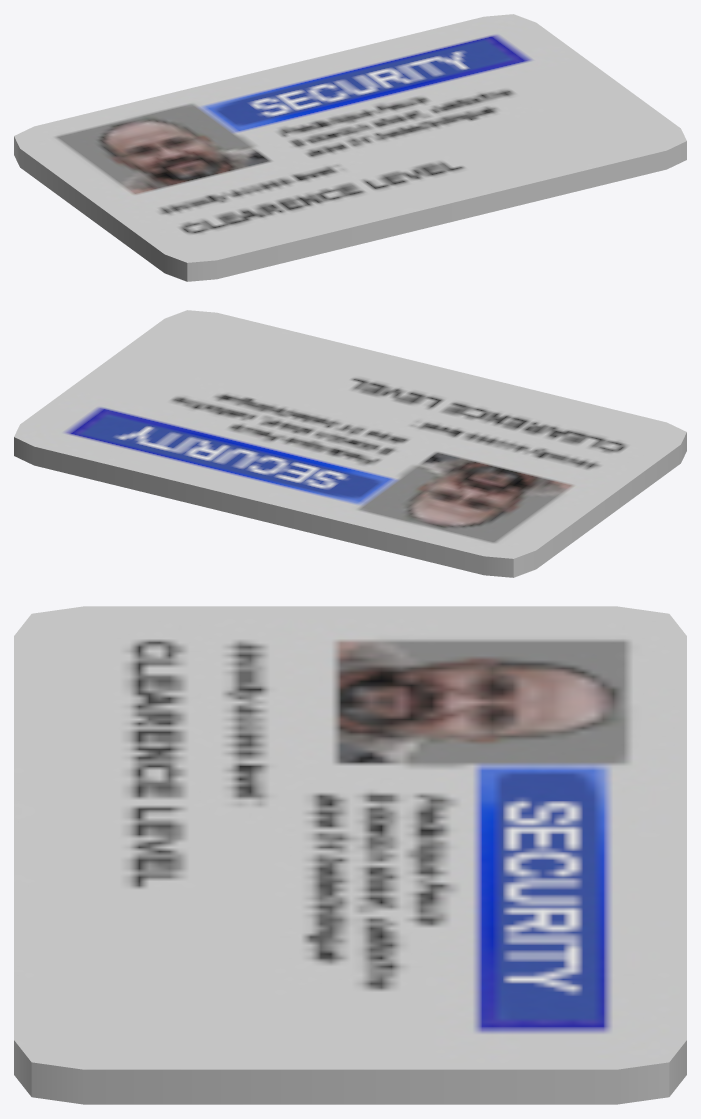
Rendered from SM_Badge.glb.
The picture shows the model from 3 angles, top to bottom: view 1: azimuth 30°, elevation 25°; view 2: azimuth 150°, elevation 25°; view 3: azimuth 270°, elevation 25°; orthographic projection. The views are drawn at different scales.
Parts seen in each view (by area): view 1: SM_Badge; view 2: SM_Badge; view 3: SM_Badge.
Boxes of the visible parts, x1,y1,x2,y2 form: SM_Badge: [14, 14, 686, 281]; SM_Badge: [14, 310, 686, 577]; SM_Badge: [14, 606, 686, 1104].
Bounding box in the file's own units: 0.4039 × 0.0142 × 0.2479.
Materials: 1 (1 with a texture image).
